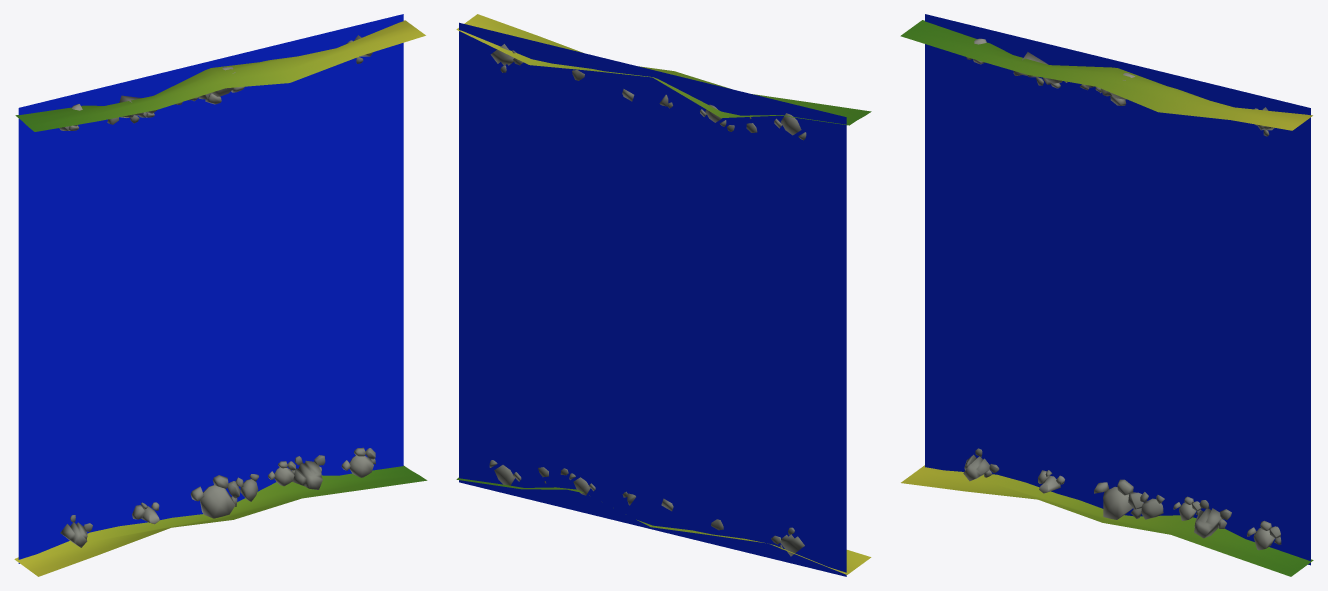
The model's file is MDL_E_LVL_Caves_02.fbx.
3 renders of one model, left to right at view 1: azimuth 30°, elevation 25°; view 2: azimuth 150°, elevation 25°; view 3: azimuth 330°, elevation 25°, orthographic.
Visible parts, largest first — view 1: Plane.020, Wall4, Wall3, RockClump_D.006, RockClump_A.004, RockClump_D.005, RockClump_A.003; view 2: Plane.020, Wall4, Wall3; view 3: Plane.020, Wall4, Wall3, RockClump_D.006, RockClump_A.004, RockClump_A.003, RockClump_D.005.
Part boxes in pixels (<box>): Plane.020: <box>18,14,403,563</box>; Wall4: <box>15,20,425,131</box>; Wall3: <box>14,465,427,576</box>; RockClump_D.006: <box>190,475,240,518</box>; RockClump_A.004: <box>292,455,325,489</box>; RockClump_D.005: <box>341,447,375,477</box>; RockClump_A.003: <box>60,515,92,547</box>; Plane.020: <box>459,22,846,576</box>; Wall4: <box>456,14,871,125</box>; Wall3: <box>456,477,871,574</box>; Plane.020: <box>925,14,1310,565</box>; Wall4: <box>900,20,1312,130</box>; Wall3: <box>901,465,1313,576</box>; RockClump_D.006: <box>1094,479,1143,519</box>; RockClump_A.004: <box>1194,500,1231,538</box>; RockClump_A.003: <box>963,448,999,481</box>; RockClump_D.005: <box>1247,520,1281,550</box>.
Bounding box in the file's own units: 3473 × 3867 × 417.
